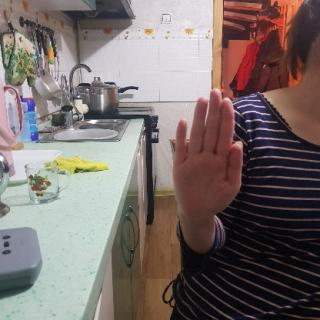SEEN: (164, 86, 246, 226)
